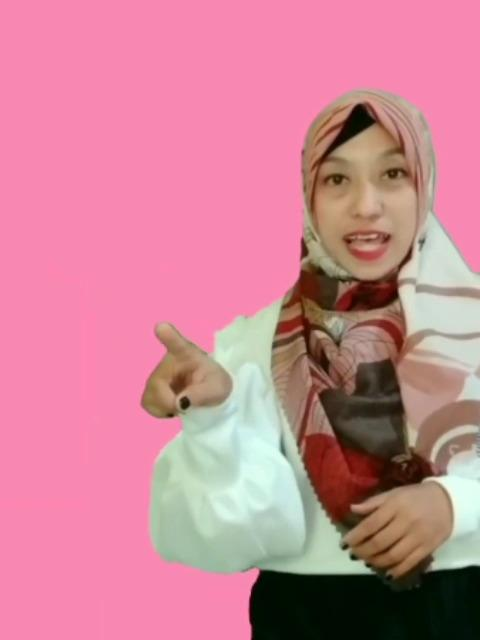Z: (133, 318, 229, 420)
